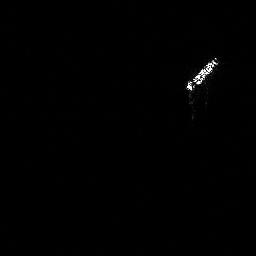ship: (181, 53, 223, 95)
